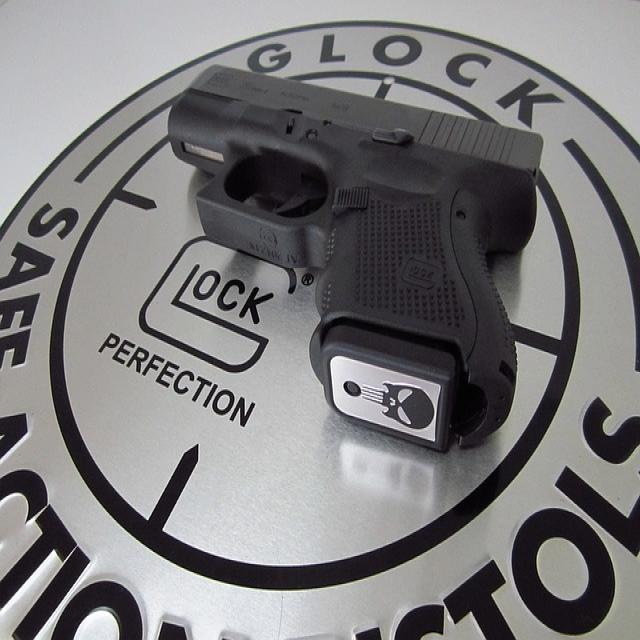HandGun: (167, 65, 541, 455)
